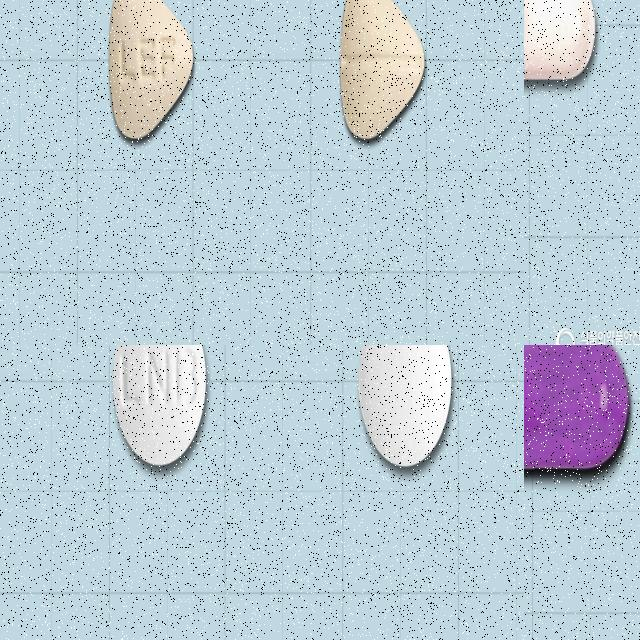Fullgram Cap: (524, 345, 631, 473)
Hanlim Leflunomide: (339, 0, 425, 145), (108, 0, 194, 142)
Lenovo: (357, 345, 451, 467), (113, 345, 207, 466)
Pocef Cap: (524, 0, 597, 83)
